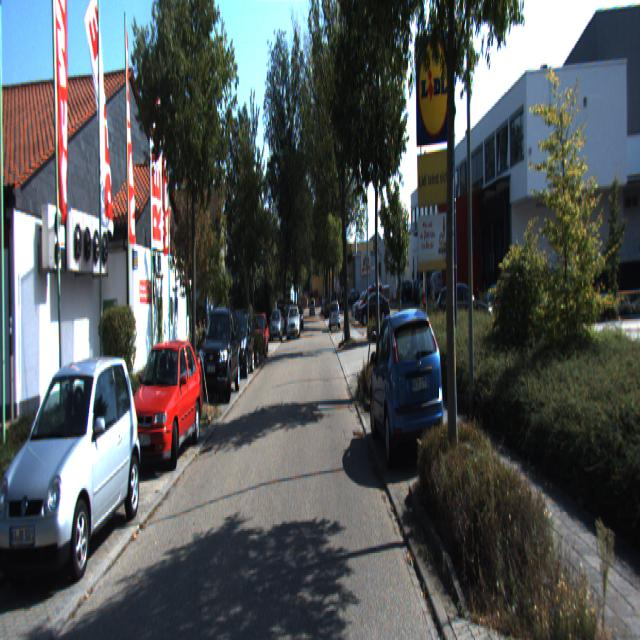Car: (0, 349, 142, 593), (368, 297, 446, 466), (127, 332, 204, 468), (198, 306, 242, 407), (224, 312, 255, 384), (358, 290, 391, 324), (248, 312, 268, 358), (329, 299, 341, 332)
